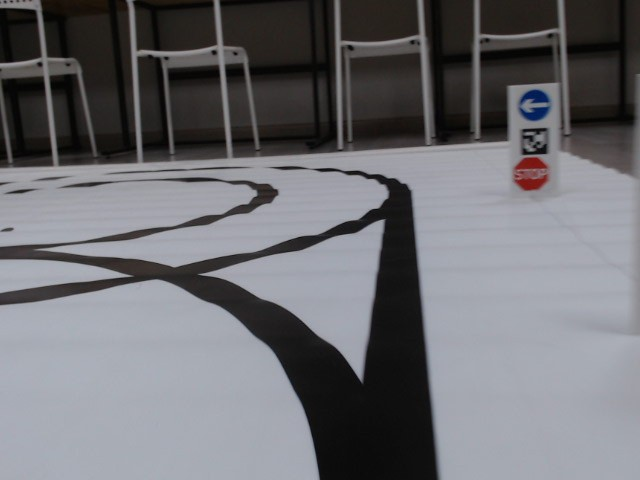Stop: (514, 156, 550, 192)
